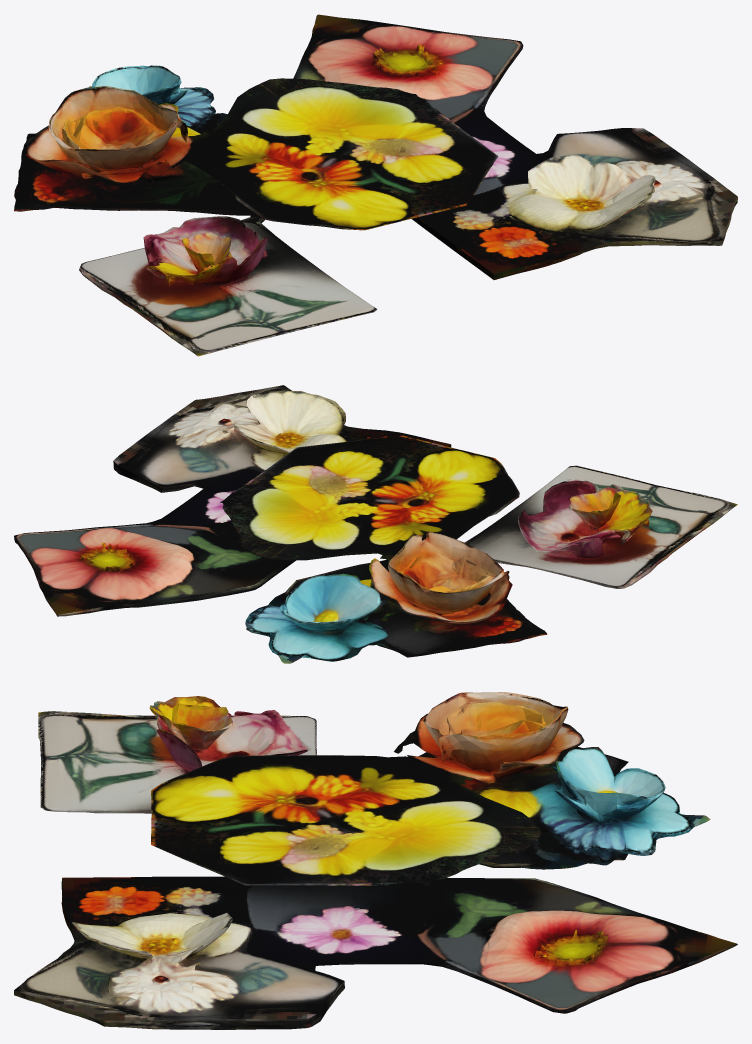
File: pressed-flower-memory-game-3d.jpeg.glb
The picture shows the model from 3 angles, top to bottom: view 1: azimuth 30°, elevation 25°; view 2: azimuth 150°, elevation 25°; view 3: azimuth 270°, elevation 25°; orthographic projection. The views are drawn at different scales.
Parts seen in each view (by area): view 1: world; view 2: world; view 3: world.
Part boxes in pixels (bbox=[...]): world: bbox=[14, 14, 737, 356]; world: bbox=[14, 385, 737, 663]; world: bbox=[14, 692, 737, 1029].
Size of the model in its own units: 1 by 0.1308 by 0.9972.
Materials: 1 (1 with a texture image).
